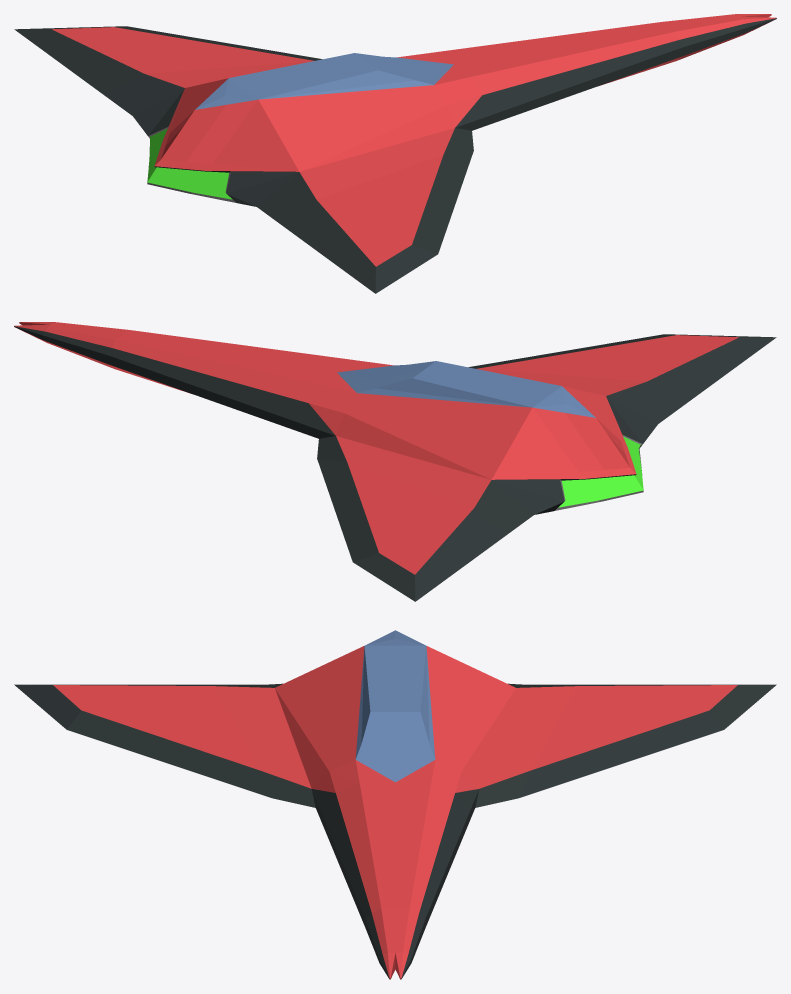
The model's file is Player Plane.fbx.
The picture shows the model from 3 angles, top to bottom: view 1: azimuth 30°, elevation 25°; view 2: azimuth 150°, elevation 25°; view 3: azimuth 270°, elevation 25°; orthographic projection. The views are drawn at different scales.
Parts seen in each view (by area): view 1: PlayerPlane; view 2: PlayerPlane; view 3: PlayerPlane.
Boxes of the visible parts, x1=… form: PlayerPlane: x1=14, y1=14, x2=776, y2=293; PlayerPlane: x1=14, y1=322, x2=776, y2=601; PlayerPlane: x1=14, y1=630, x2=776, y2=979.
Bounding box in the file's own units: 4129 × 498 × 4126.
